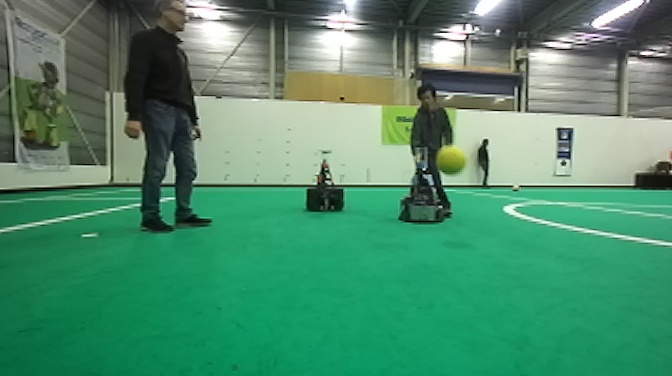ball: (435, 142, 467, 177), (509, 181, 523, 194)
human: (122, 1, 214, 234), (407, 84, 454, 211), (473, 133, 495, 189)
robot: (396, 141, 447, 225), (306, 148, 347, 212)
